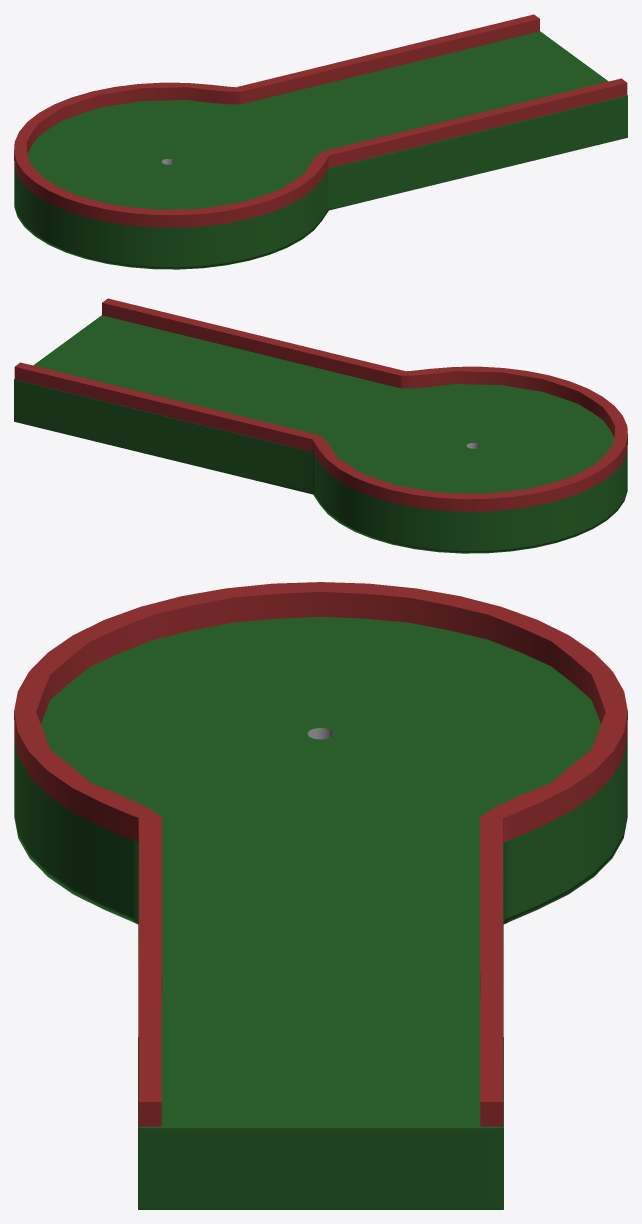
Rendered from holeOne 1.fbx.
The picture shows the model from 3 angles, top to bottom: view 1: azimuth 30°, elevation 25°; view 2: azimuth 150°, elevation 25°; view 3: azimuth 270°, elevation 25°; orthographic projection. The views are drawn at different scales.
Parts seen in each view (by area): view 1: holeOneGround1; view 2: holeOneGround1; view 3: holeOneGround1.
Part boxes in pixels (x1=…): holeOneGround1: x1=14, y1=14, x2=627, y2=269; holeOneGround1: x1=14, y1=298, x2=627, y2=553; holeOneGround1: x1=14, y1=582, x2=627, y2=1209.
Bounding box in the file's own units: 13.48 × 1.3 × 6.71.
